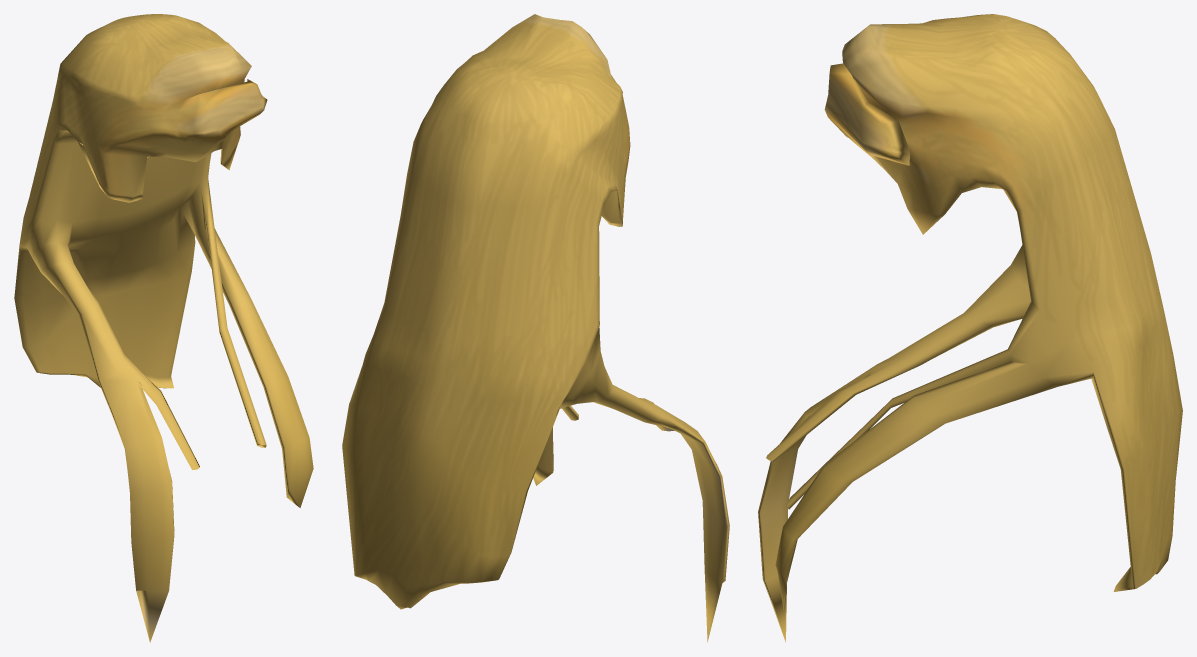
File: hair 1.fbx
The picture shows the model from 3 angles, left to right: view 1: azimuth 30°, elevation 25°; view 2: azimuth 150°, elevation 25°; view 3: azimuth 270°, elevation 25°; orthographic projection. The views are drawn at different scales.
Parts seen in each view (by area): view 1: hair; view 2: hair; view 3: hair.
Part boxes in pixels (<box>): hair: <box>14,14,313,642</box>; hair: <box>342,14,729,642</box>; hair: <box>758,14,1182,642</box>.
Size of the model in its own units: 1.41 by 3.7 by 2.14.
Materials: 1 (1 with a texture image).
